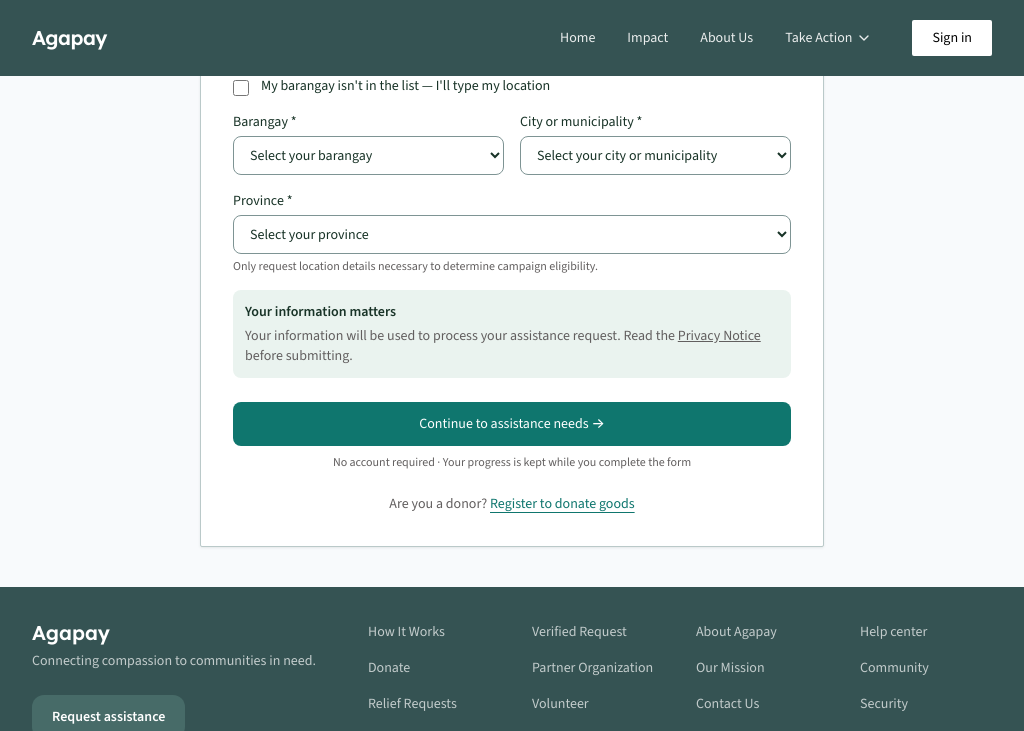
RequestAssistancePage › summarises invalid fields accessibly and keeps focus on the summary
The image size is (1024, 731).
(page scrolled)
Click the button "Continue to assistance needs →" at x=512, y=424, box [233, 402, 791, 446]
(page scrolled)
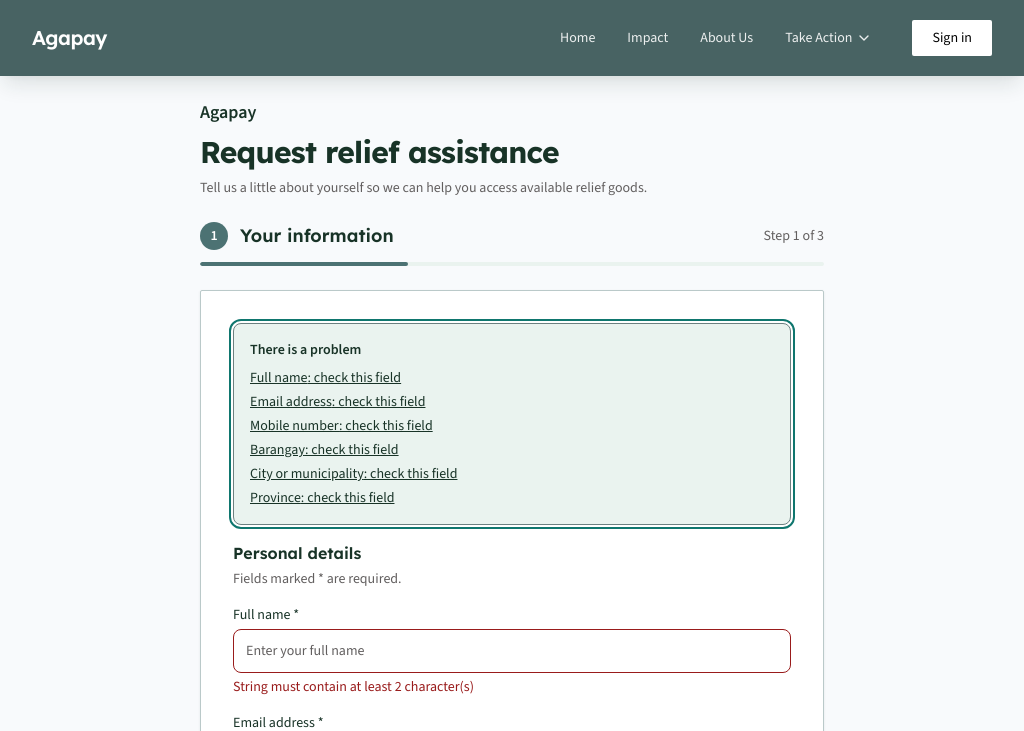
Check: the message that starts with "There is a problem" shows "Full name", box [250, 368, 401, 387]
Check: the message that starts with "There is a problem" shows "Email address", box [250, 392, 426, 411]
